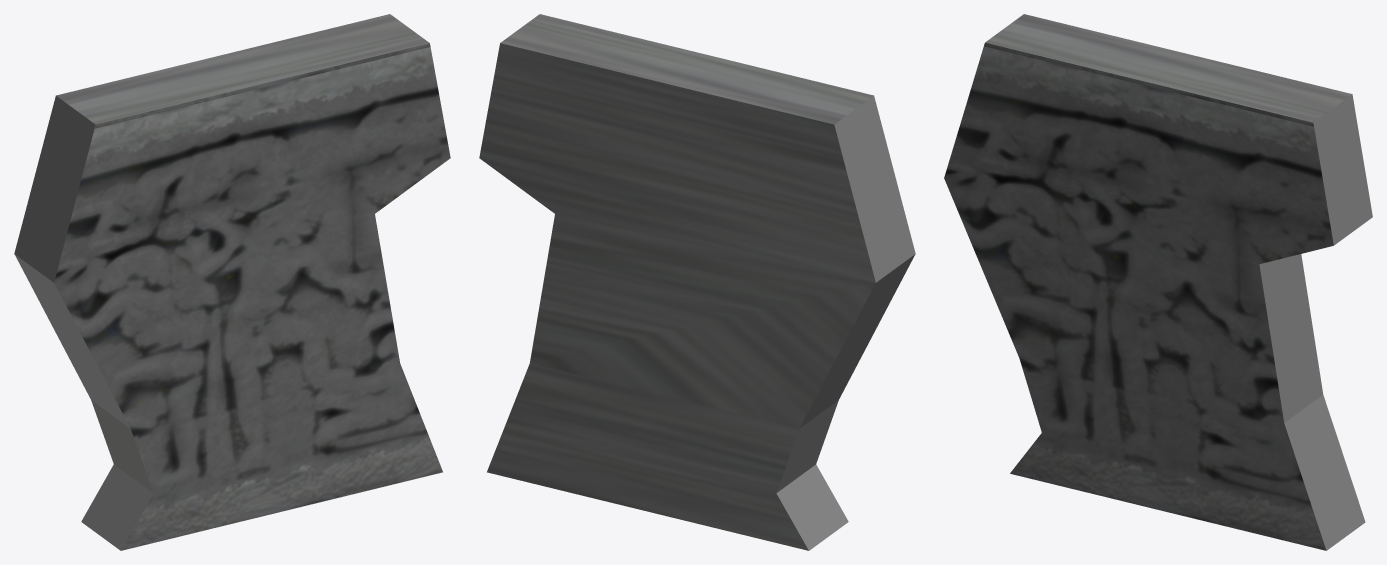
Rendered from Relief3.fbx.
3 renders of one model, left to right at view 1: azimuth 30°, elevation 25°; view 2: azimuth 150°, elevation 25°; view 3: azimuth 330°, elevation 25°, orthographic.
Visible parts, largest first — view 1: R3; view 2: R3; view 3: R3.
Boxes of the visible parts, x1=… form: R3: x1=14, y1=14, x2=450, y2=550; R3: x1=479, y1=14, x2=915, y2=550; R3: x1=944, y1=14, x2=1372, y2=550.
Bounding box in the file's own units: 1.15 × 1.2 × 0.2.
